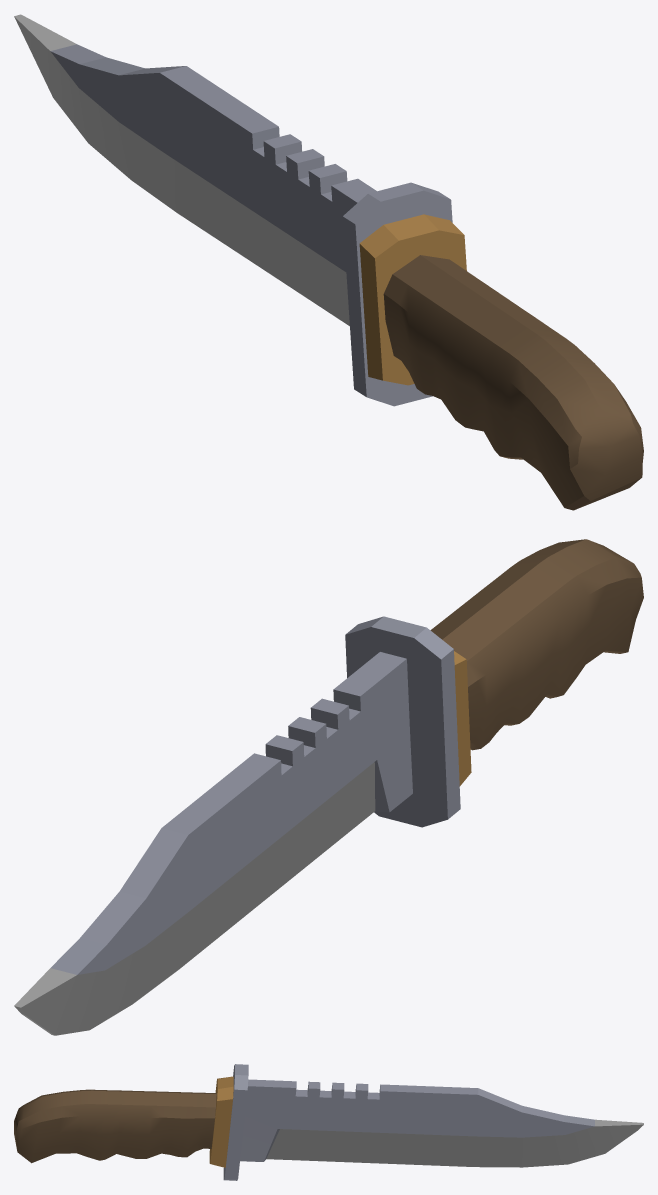
File: knife.glb
3 views of the same model, one above another, from view 1: azimuth 30°, elevation 25°; view 2: azimuth 150°, elevation 25°; view 3: azimuth 270°, elevation 25° (orthographic). The views are drawn at different scales.
Visible parts, largest first — view 1: Baked_Knife_1; view 2: Baked_Knife_1; view 3: Baked_Knife_1.
Part boxes in pixels (bbox=[...]): Baked_Knife_1: bbox=[14, 14, 643, 510]; Baked_Knife_1: bbox=[14, 539, 643, 1035]; Baked_Knife_1: bbox=[14, 1064, 643, 1180].
Bounding box in the file's own units: 0.0438 × 0.0851 × 0.46.
